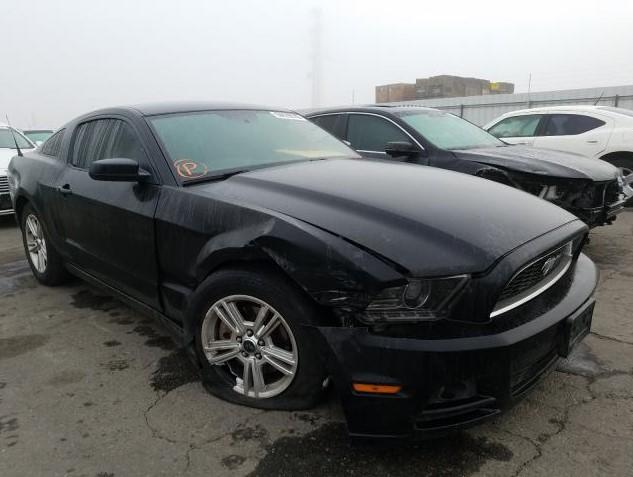Back-wheel: (21, 203, 70, 285)
Back-window: (42, 128, 66, 156)
Fender: (153, 183, 409, 326)
Front-bumper: (313, 220, 600, 447)
Front-door: (54, 114, 163, 314)
Front-wheel: (188, 269, 326, 408)
Front-window: (72, 119, 146, 171)
Grille: (497, 242, 573, 304)
Headlight: (359, 274, 470, 322)
Hood: (185, 156, 580, 276)
Mirror: (90, 158, 150, 183)
Quarter-panel: (8, 148, 74, 264)
Rocker-panel: (62, 258, 185, 338)
Roof: (71, 99, 294, 119)
Windshield: (143, 109, 361, 185)
